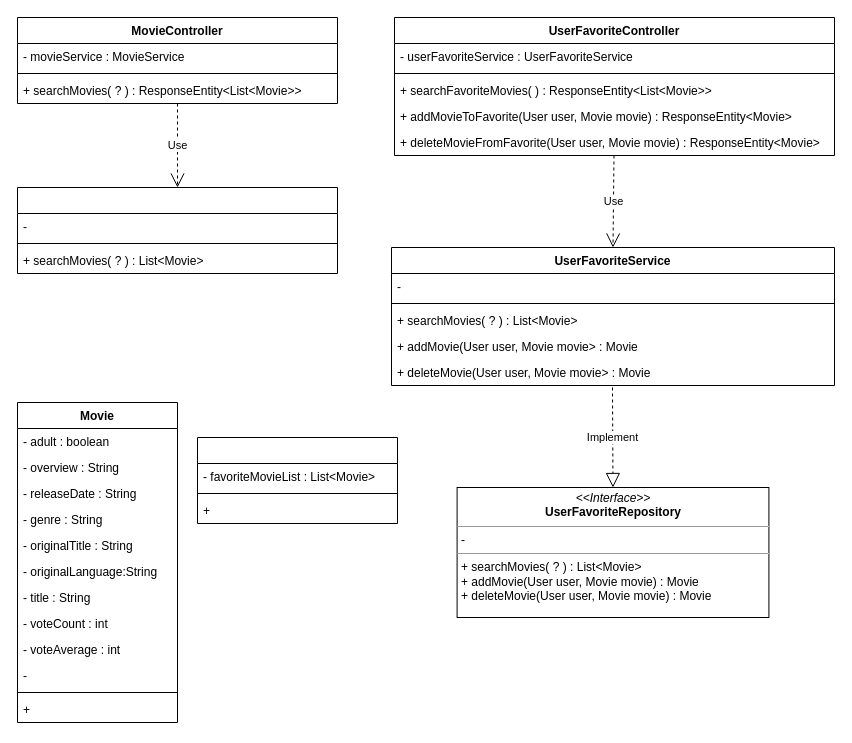
Image size: 852x743. Some labels were removed from this diagram. Here are the shapes that lost their labels. From the top down, the box of each, then its label:
(16, 186, 338, 274): MovieService
(196, 436, 398, 524): UserFavorite
